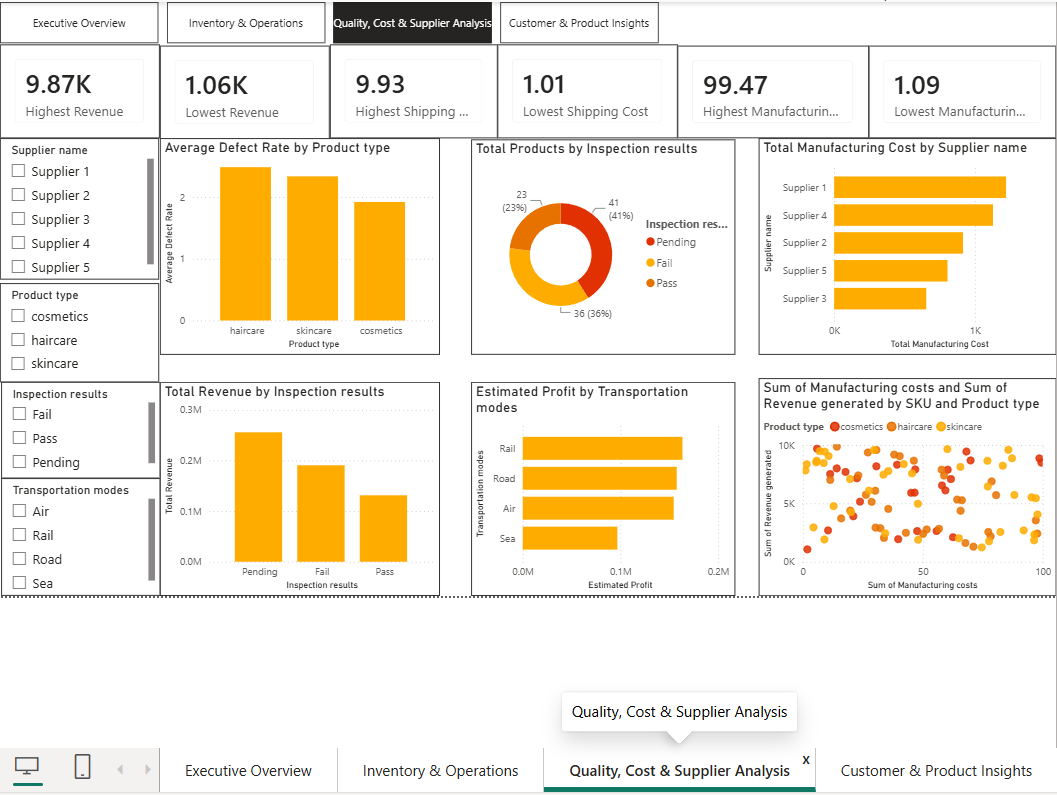

The dashboard page shown, as its layout file describes it:
{"tool":"powerbi","page":{"name":"Quality, Cost & Supplier Analysis","canvas":[1280,720],"ordinal":2},"visuals":[{"type":"cardVisual","fields":{"Data":["Fact_supplychain.Highest Revenue"]},"box":[0,89.2,193.5,98.8],"z":0},{"type":"cardVisual","fields":{"Data":["Fact_supplychain.Lowest Revenue"]},"box":[193.5,89.2,205.8,98.8],"z":1000},{"type":"cardVisual","fields":{"Data":["Fact_supplychain.Highest Shipping Cost"]},"box":[399.3,87.8,203.1,98.8],"z":2000},{"type":"cardVisual","fields":{"Data":["Fact_supplychain.Lowest Shipping Cost"]},"box":[602.4,89.2,218.2,98.8],"z":3000},{"type":"cardVisual","fields":{"Data":["Fact_supplychain.Highest Manufacturing Cost"]},"box":[820.6,89.2,231.9,98.8],"z":4000},{"type":"cardVisual","fields":{"Data":["Fact_supplychain.Lowest Manufacturing Cost"]},"box":[1052.2,89.2,227.8,98.8],"z":5000},{"type":"slicer","fields":{"Values":["Fact_supplychain.Supplier name"]},"box":[1140.3,0,140,87.8],"z":6000},{"type":"slicer","fields":{"Values":["Fact_supplychain.Product type"]},"box":[1016.8,0,123.5,87.8],"z":7000},{"type":"slicer","fields":{"Values":["Fact_supplychain.Inspection results"]},"box":[908.4,0,108.4,87.8],"z":8000},{"type":"slicer","fields":{"Values":["Fact_supplychain.Transportation modes"]},"box":[769.8,0,138.6,87.8],"z":9000},{"type":"clusteredColumnChart","fields":{"Category":["Fact_supplychain.Product type"],"Y":["Fact_supplychain.Average Defect Rate"]},"box":[0,193.5,296.4,262.1],"z":10000},{"type":"clusteredColumnChart","title":"Revenue by Inspection Result","fields":{"Category":["Fact_supplychain.Inspection results"],"Y":["Fact_supplychain.Total Revenue"]},"box":[0,462.4,296.4,258],"z":11000},{"type":"donutChart","title":"Product Inspection Results","fields":{"Category":["Fact_supplychain.Inspection results"],"Y":["Fact_supplychain.Total Products"]},"box":[307.4,193.5,284,260.7],"z":12000},{"type":"clusteredBarChart","fields":{"Category":["Fact_supplychain.Transportation modes"],"Y":["Fact_supplychain.Estimated Profit"]},"box":[307.4,462.4,284,258],"z":13000},{"type":"clusteredBarChart","title":"Manufacturing Cost by Supplier","fields":{"Category":["Fact_supplychain.Supplier name"],"Y":["Fact_supplychain.Total Manufacturing Cost"]},"box":[602.4,192.1,334.8,262.1],"z":14000},{"type":"scatterChart","title":"Manufacturing Cost vs Revenue by SKU","fields":{"X":["Sum(Fact_supplychain.Manufacturing costs)"],"Y":["Sum(Fact_supplychain.Revenue generated)"],"Series":["Fact_supplychain.Product type"],"Category":["Fact_supplychain.SKU"]},"box":[602.4,462.4,334.8,258],"z":15000},{"type":"pageNavigator","box":[946.8,671,333.4,49.4],"z":16000},{"type":"textbox","box":[946.8,462.4,333.4,197.6],"z":16001},{"type":"textbox","box":[0,0,758.8,87.8],"z":16002},{"type":"clusteredBarChart","title":"Average Defect Rate by Supplier","fields":{"Category":["Fact_supplychain.Supplier name"],"Y":["Fact_supplychain.Average Defect Rate"]},"box":[946.8,192.1,333.4,262.1],"z":16003}]}

Visuals, with their boxes on the page's 1280x720 design canvas (x1, y1, x2, y2). These are canvas units, not pixel positions in the 1057x795 screenshot, which may show the page scaled, cropped or inside an application window:
cardVisual - Fact_supplychain.Highest Revenue: [0,89,194,188]
cardVisual - Fact_supplychain.Lowest Revenue: [194,89,399,188]
cardVisual - Fact_supplychain.Highest Shipping Cost: [399,88,602,187]
cardVisual - Fact_supplychain.Lowest Shipping Cost: [602,89,821,188]
cardVisual - Fact_supplychain.Highest Manufacturing Cost: [821,89,1052,188]
cardVisual - Fact_supplychain.Lowest Manufacturing Cost: [1052,89,1280,188]
slicer - Fact_supplychain.Supplier name: [1140,0,1280,88]
slicer - Fact_supplychain.Product type: [1017,0,1140,88]
slicer - Fact_supplychain.Inspection results: [908,0,1017,88]
slicer - Fact_supplychain.Transportation modes: [770,0,908,88]
clusteredColumnChart - Fact_supplychain.Product type x Fact_supplychain.Average Defect Rate: [0,194,296,456]
"Revenue by Inspection Result" clusteredColumnChart: [0,462,296,720]
"Product Inspection Results" donutChart: [307,194,591,454]
clusteredBarChart - Fact_supplychain.Transportation modes x Fact_supplychain.Estimated Profit: [307,462,591,720]
"Manufacturing Cost by Supplier" clusteredBarChart: [602,192,937,454]
"Manufacturing Cost vs Revenue by SKU" scatterChart: [602,462,937,720]
pageNavigator: [947,671,1280,720]
textbox: [947,462,1280,660]
textbox: [0,0,759,88]
"Average Defect Rate by Supplier" clusteredBarChart: [947,192,1280,454]
